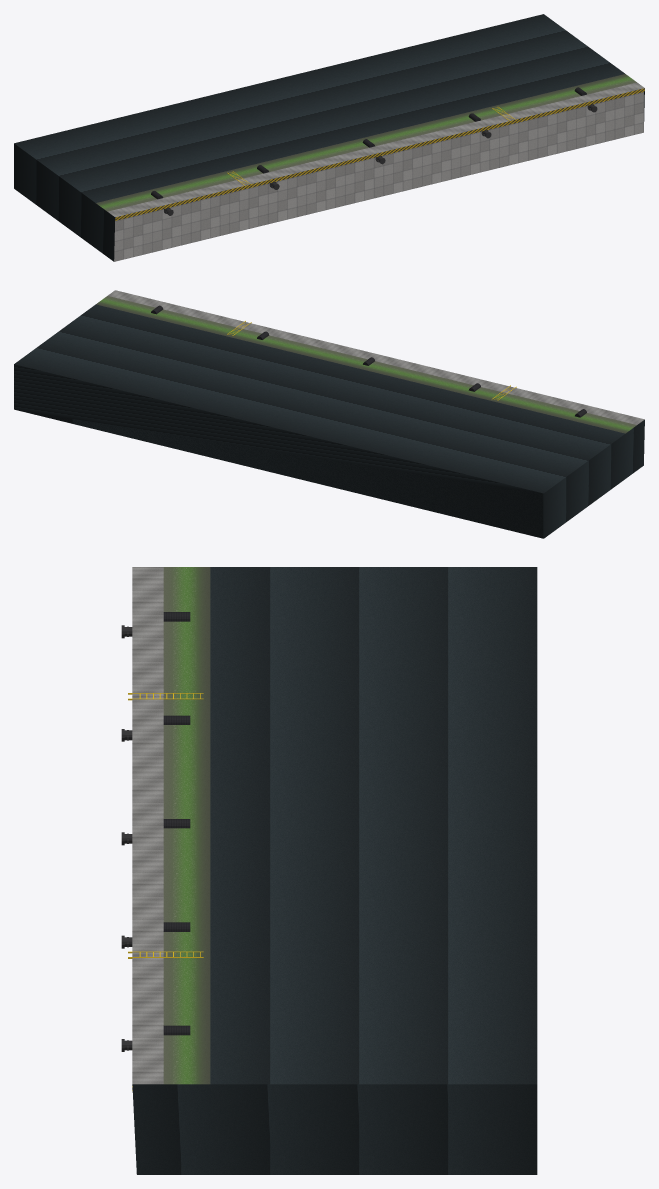
The model's file is harbor_wall_straight.obj.
3 renders of one model, top to bottom at view 1: azimuth 30°, elevation 25°; view 2: azimuth 150°, elevation 25°; view 3: azimuth 270°, elevation 25°, orthographic. The views are drawn at different scales.
Bounding box in the file's own units: 55 × 4.8 × 18.68.
Materials: 8 (8 with a texture image).
